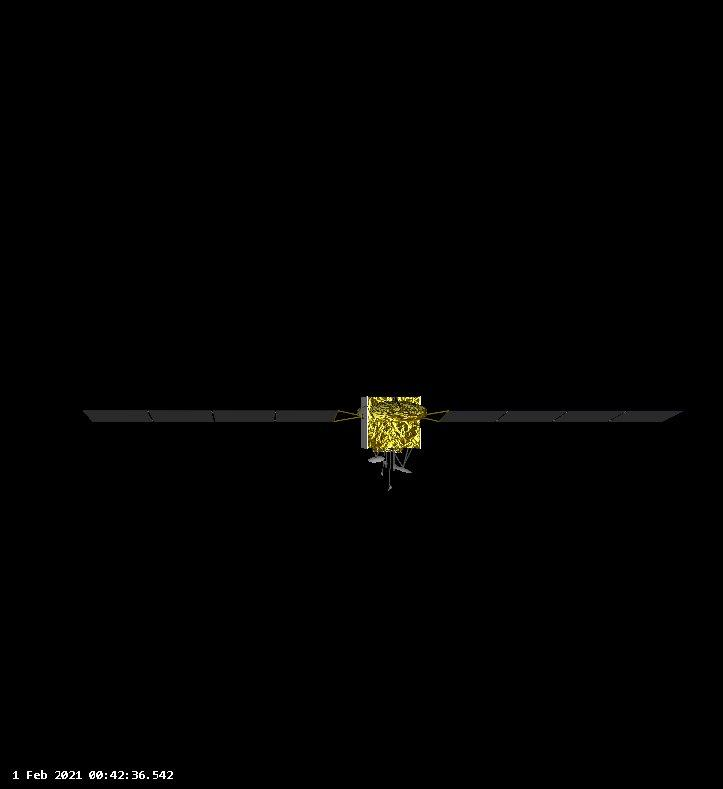antenna: (369, 400, 428, 424), (392, 463, 414, 475), (366, 454, 386, 465)
body: (359, 395, 424, 452)
solar: (80, 407, 342, 425), (435, 408, 686, 425)
